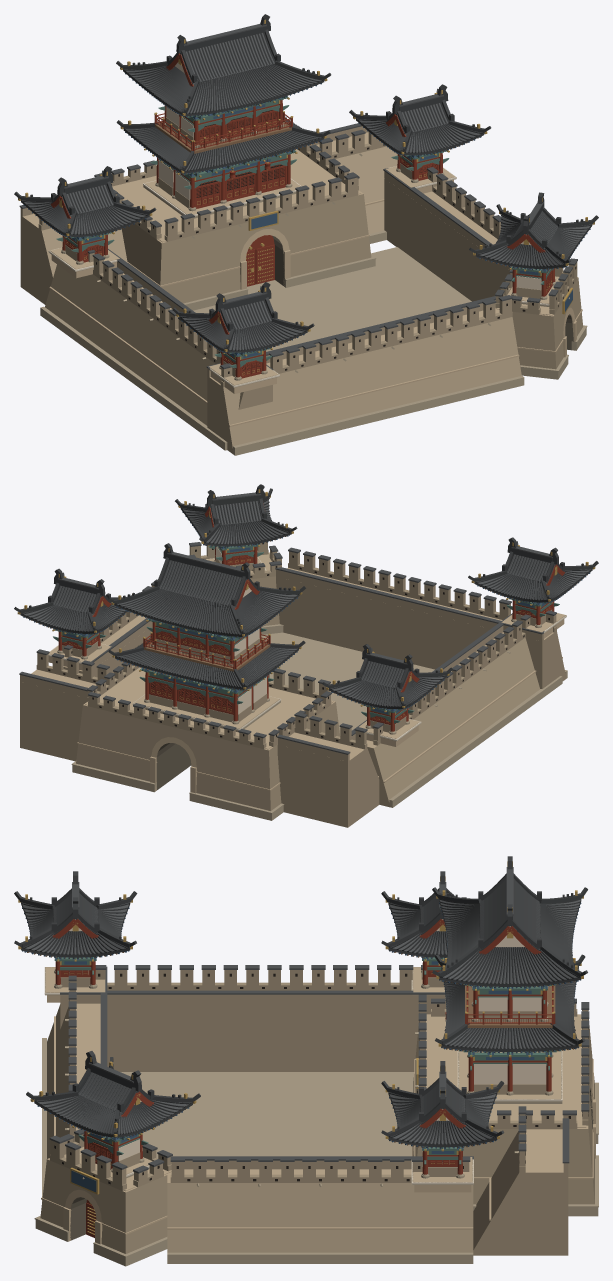
The picture shows the model from 3 angles, top to bottom: view 1: azimuth 30°, elevation 25°; view 2: azimuth 150°, elevation 25°; view 3: azimuth 270°, elevation 25°; orthographic projection. The views are drawn at different scales.
Visible parts, largest first — view 1: J01; view 2: J01; view 3: J01.
Part boxes in pixels (left/top/right/bottom): J01: left=14, top=14, right=598, bottom=455; J01: left=14, top=484, right=598, bottom=827; J01: left=14, top=856, right=598, bottom=1266.
Size of the model in its own units: 55.96 by 29.69 by 57.36.
